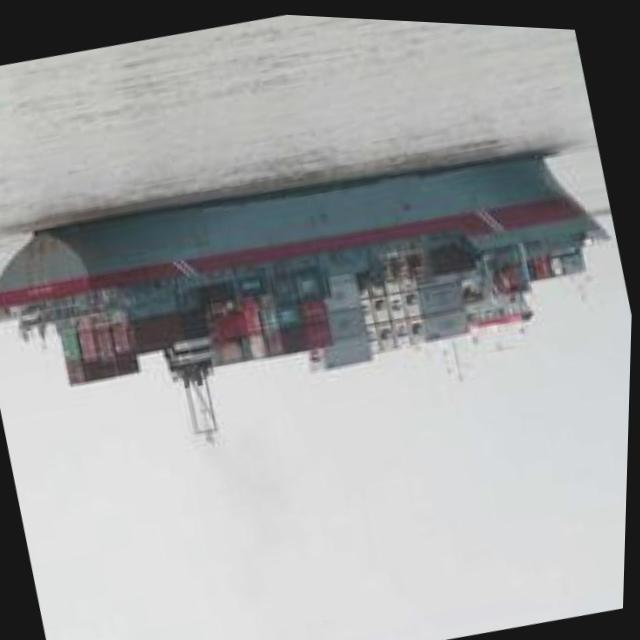ship2: (0, 142, 615, 438)
